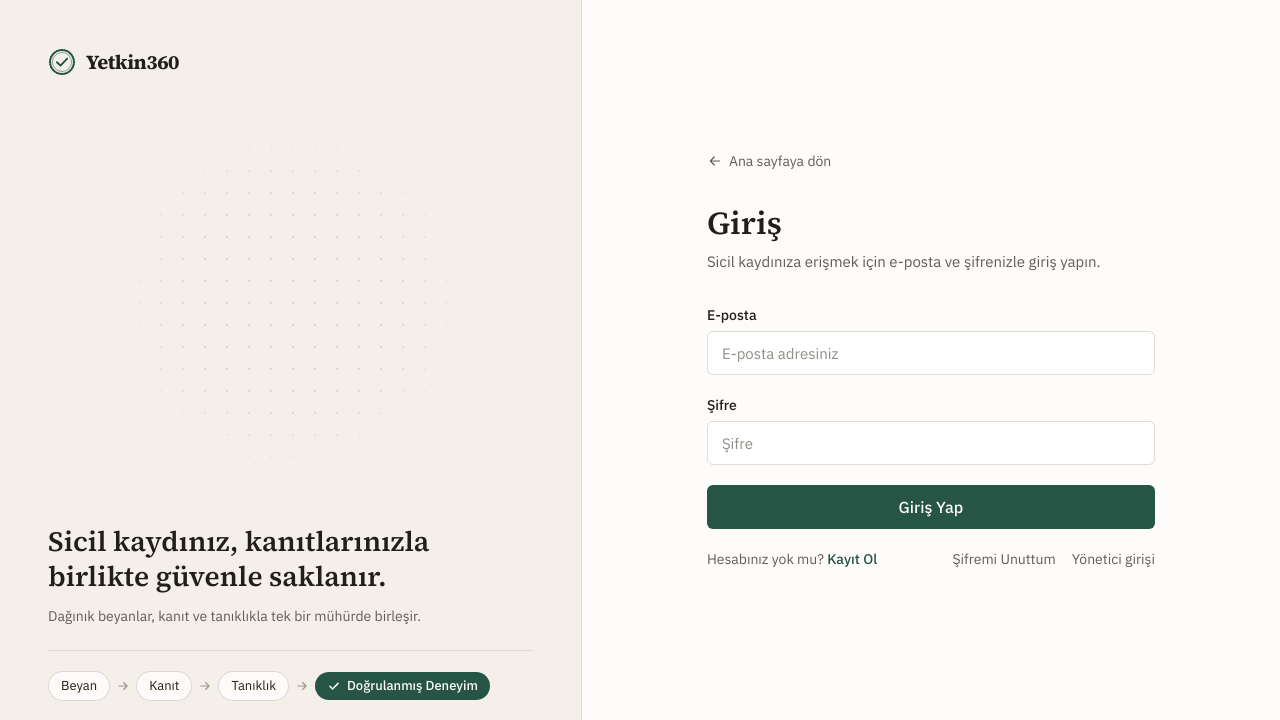
LoginPage (giris/page.tsx) — Form Gerçek İmplementasyon › AC-3: Giriş — 401 INVALID_CREDENTIALS (tek, genel mesaj) › AC-3: 401 INVALID_CREDENTIALS → 'E-posta veya şifre hatalı' mesajı + hangi alan yanlış BELİRTİLMEZ
Type "wrong@example.com" into the field with placeholder "E-posta adresiniz" at (931, 353), box [707,331,1155,375]
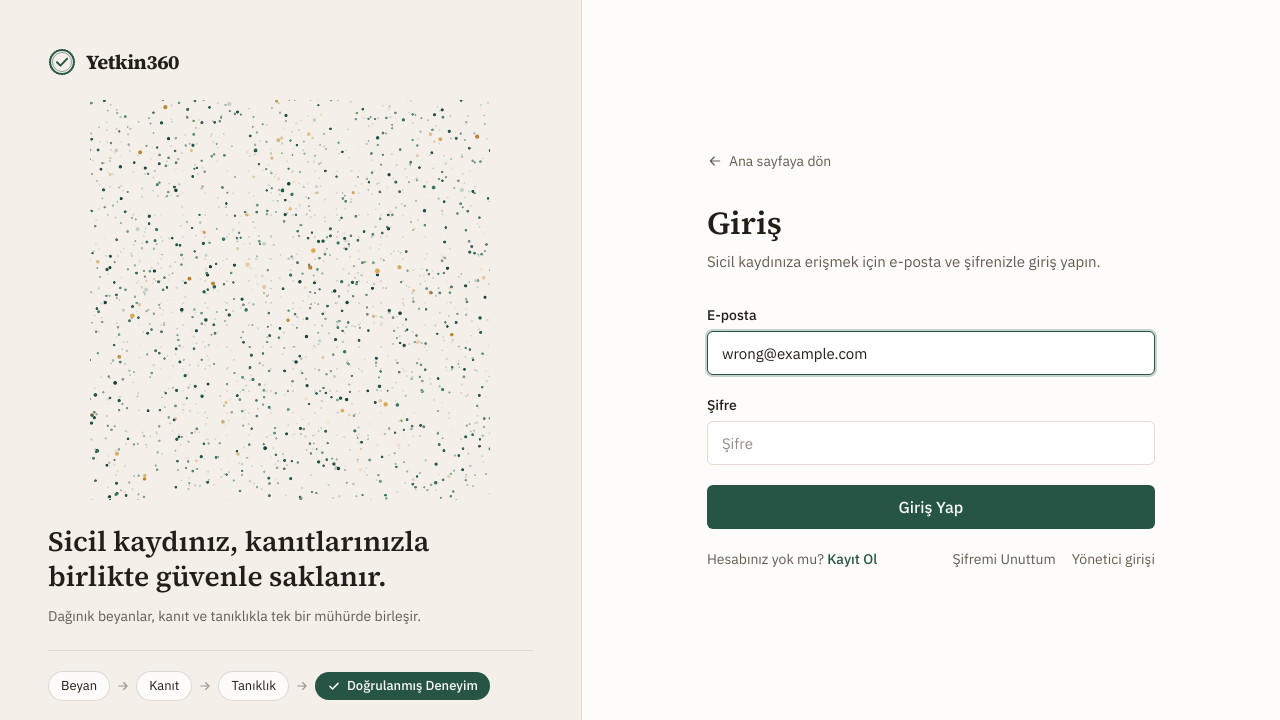
Type "wrongpassword" into the password field with placeholder "Şifre" at (931, 443), box [707,421,1155,465]
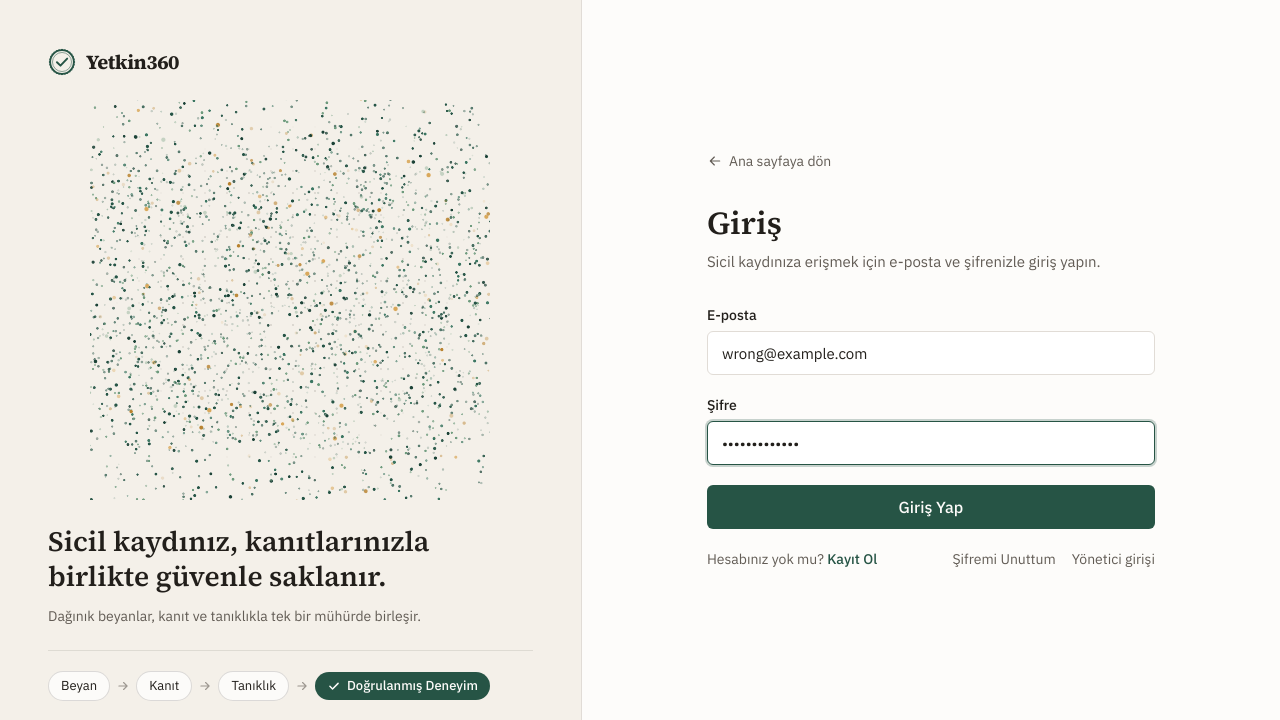
Click the button "Giriş Yap" at (931, 507), box [707,485,1155,529]
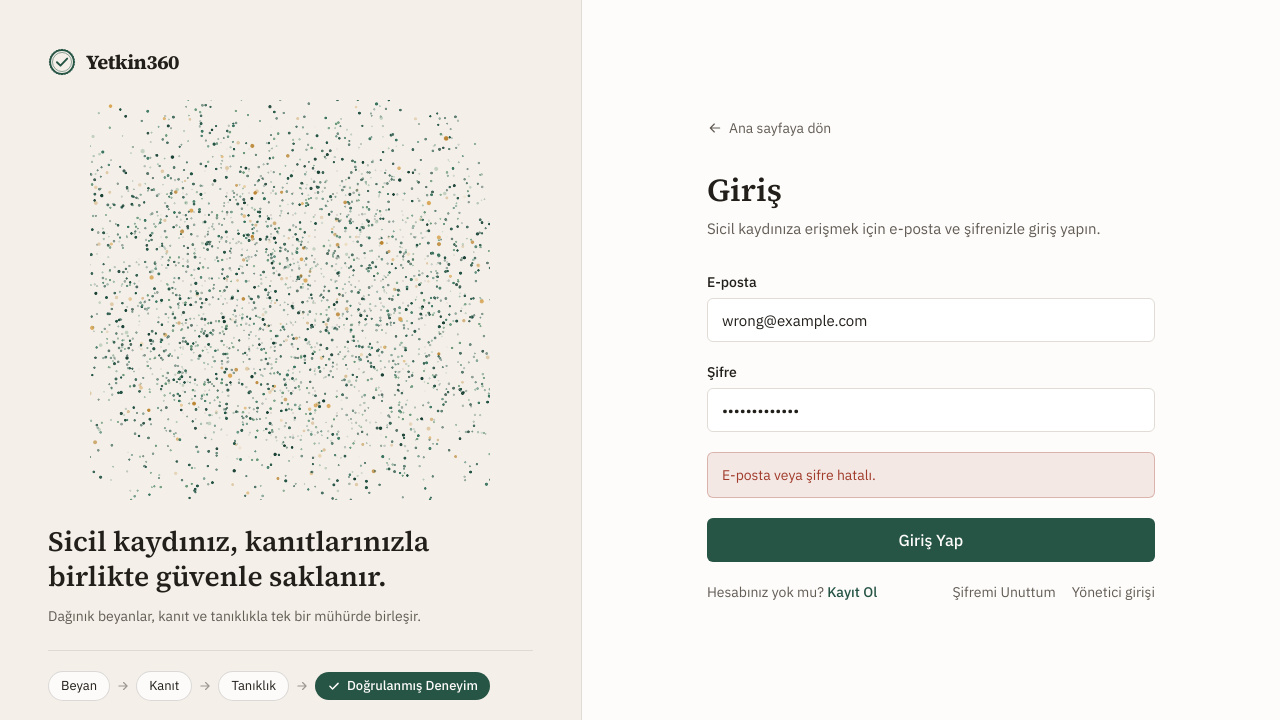
expect the text "E-posta veya şifre hatalı." is shown: met, box [707,452,1155,498]
